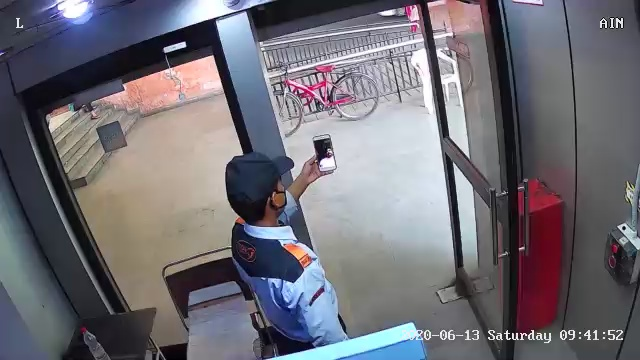open: (402, 7, 567, 355)
